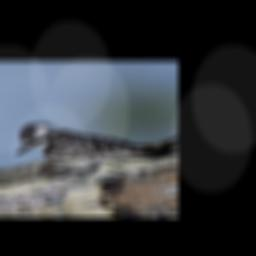Woodpecker: (0, 103, 167, 199)
